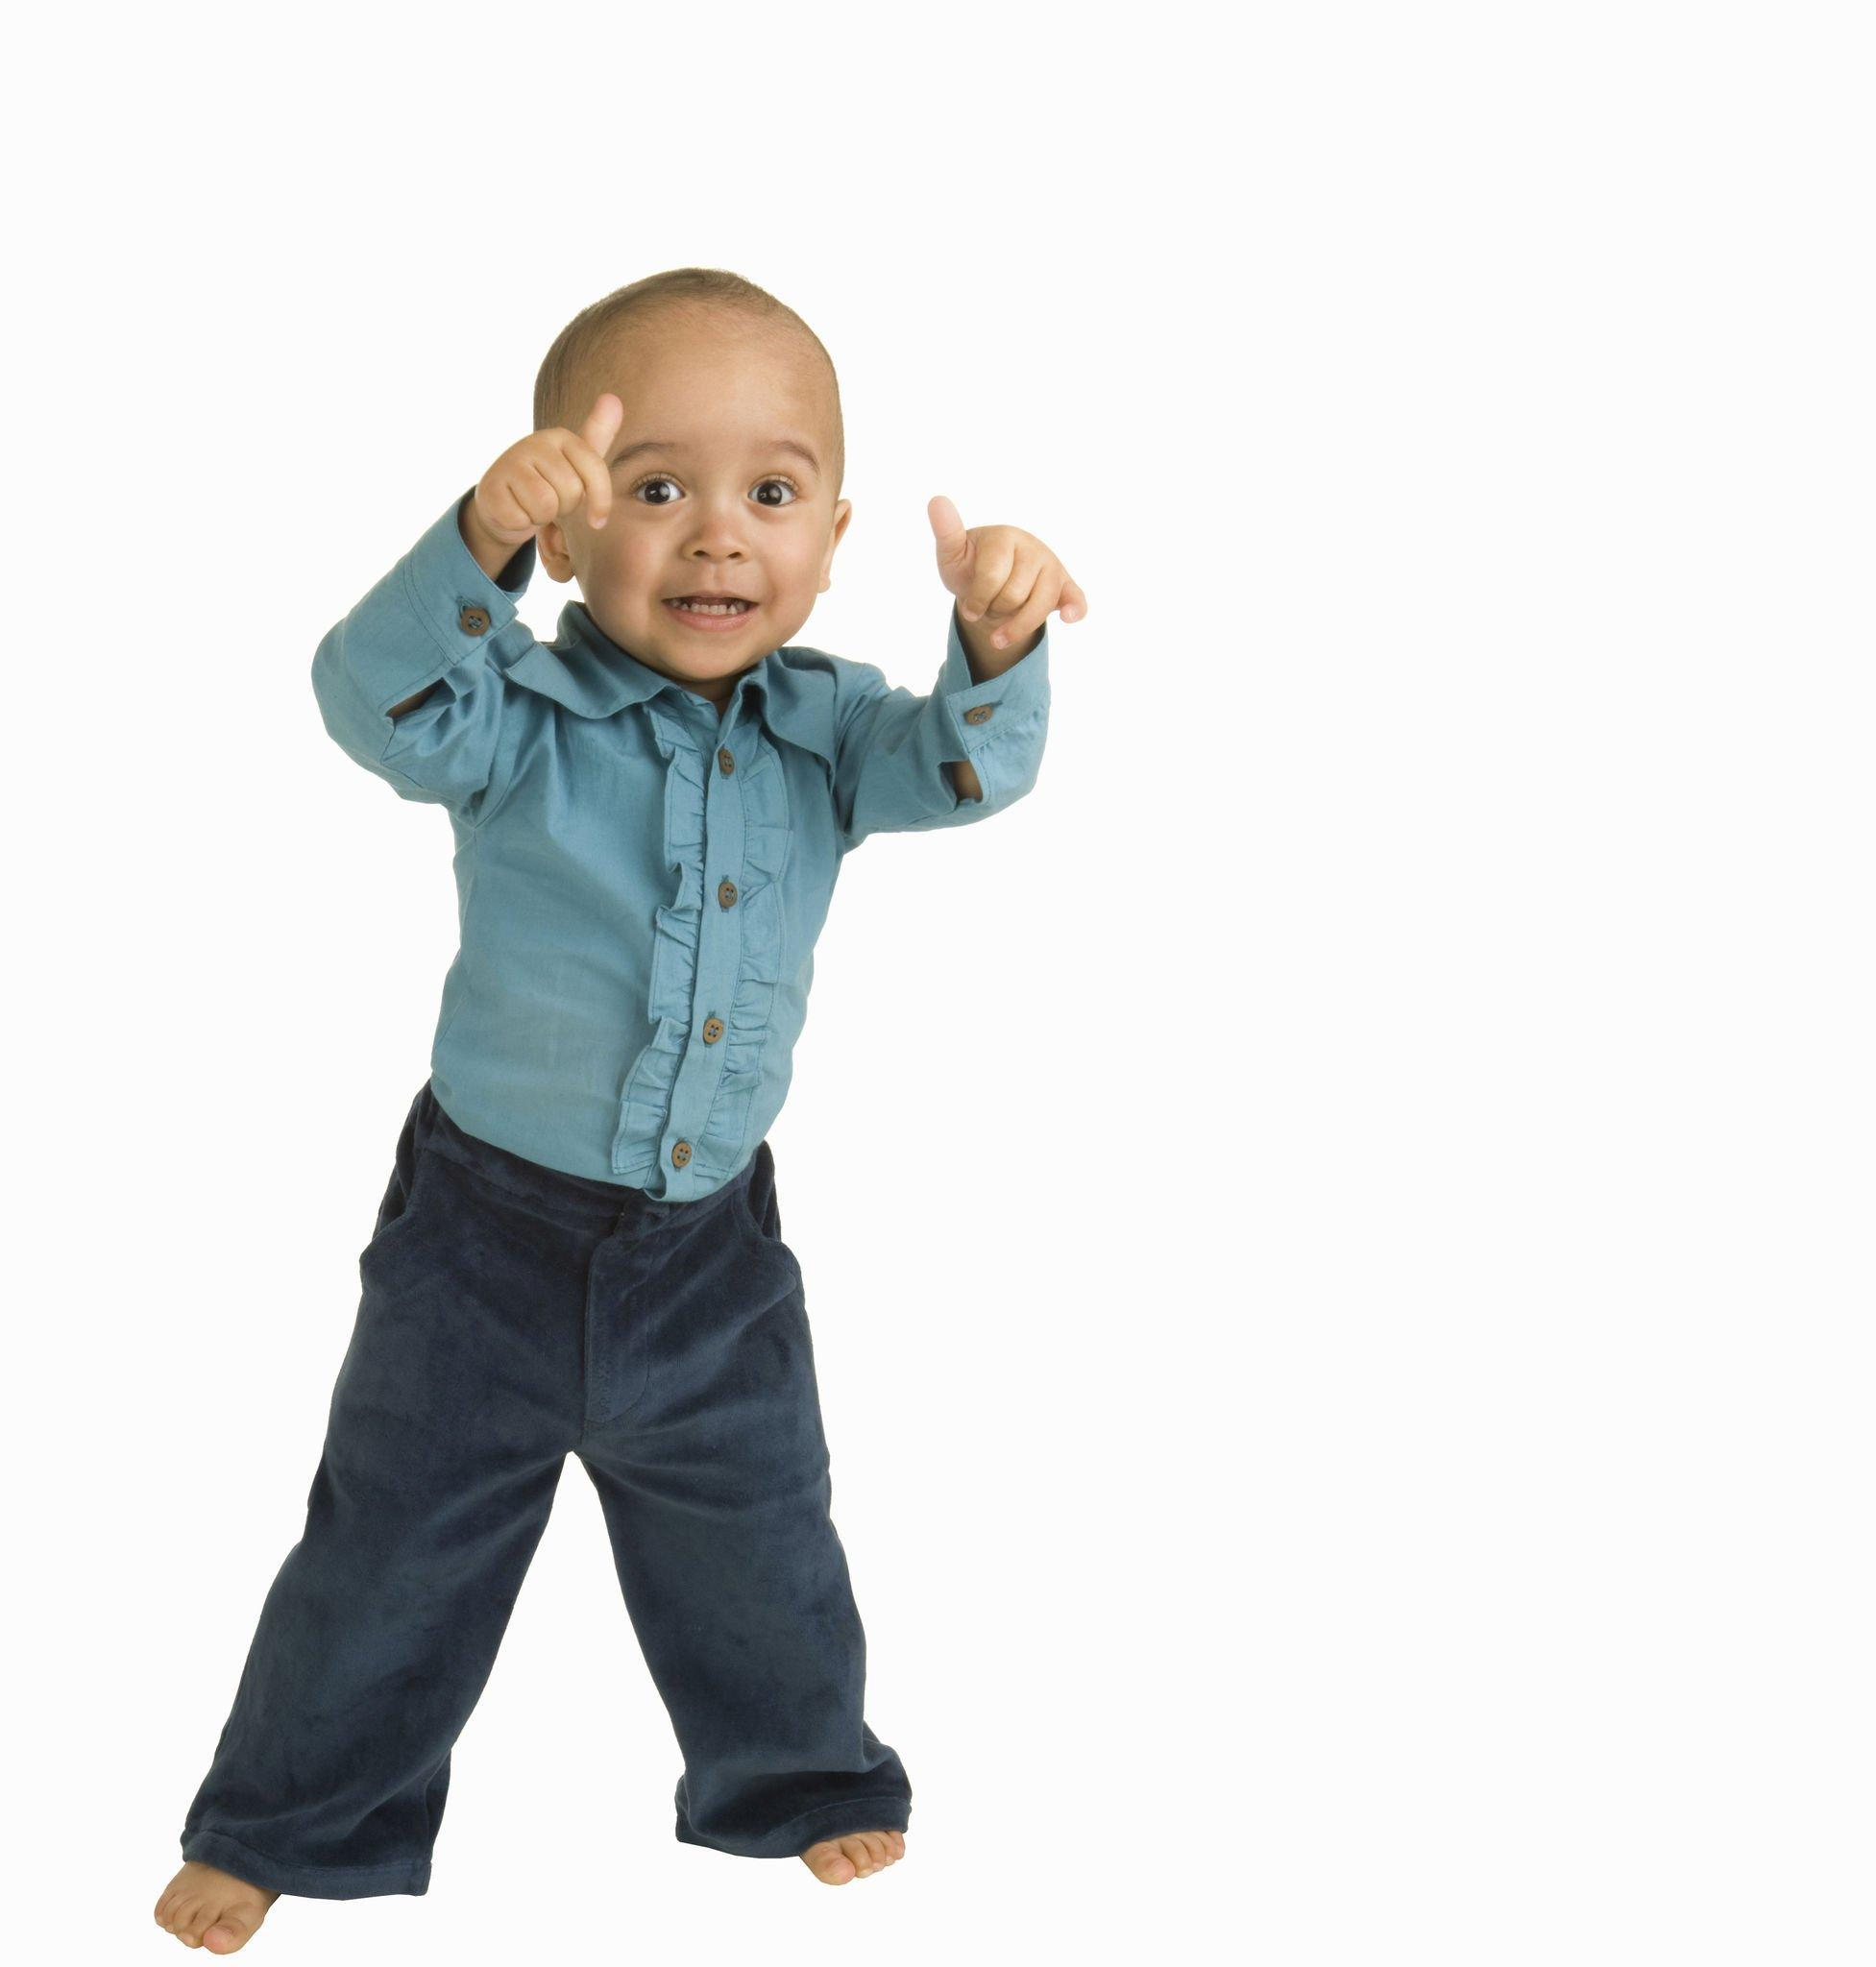Healthy: (583, 385, 878, 702)
